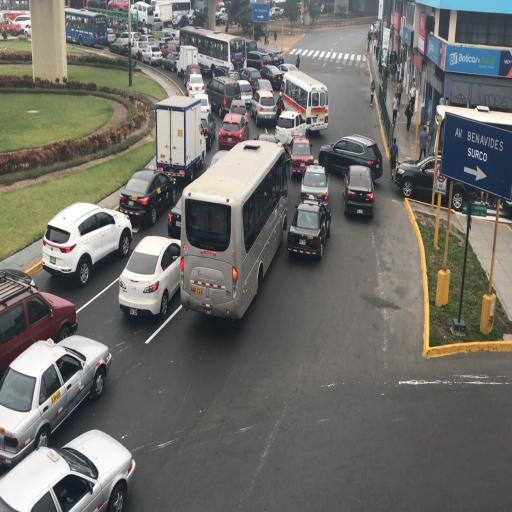auto: (0, 334, 112, 468), (0, 429, 133, 512), (1, 270, 76, 394), (42, 198, 131, 282), (396, 153, 492, 210), (118, 235, 182, 318), (119, 165, 176, 225), (320, 134, 378, 182), (342, 164, 374, 219), (274, 109, 306, 149), (300, 162, 328, 206), (287, 135, 315, 179), (218, 111, 249, 150), (251, 88, 277, 126), (230, 76, 254, 109), (238, 66, 264, 95), (259, 64, 284, 92), (228, 97, 251, 126), (246, 48, 273, 72), (140, 44, 162, 66), (131, 37, 150, 60), (121, 31, 140, 49), (164, 39, 180, 60), (196, 94, 211, 116), (254, 132, 279, 145), (166, 51, 181, 72), (278, 63, 298, 77), (152, 16, 166, 30), (218, 11, 229, 24), (269, 10, 280, 20)
bus: (180, 139, 284, 315), (278, 68, 327, 134), (180, 25, 236, 79), (65, 6, 109, 48), (130, 0, 155, 28), (169, 1, 194, 26)
camion: (154, 95, 204, 190), (178, 44, 199, 80)
